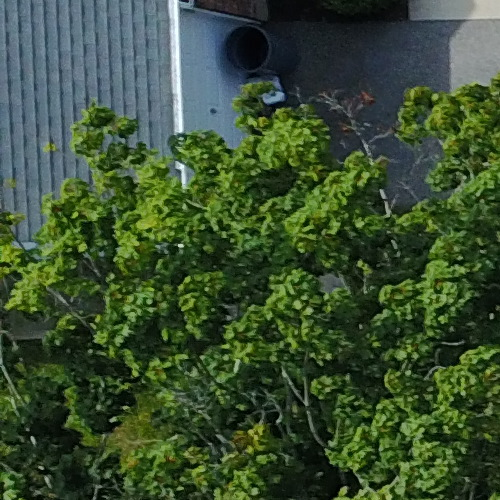trash bin: (221, 20, 317, 99)
